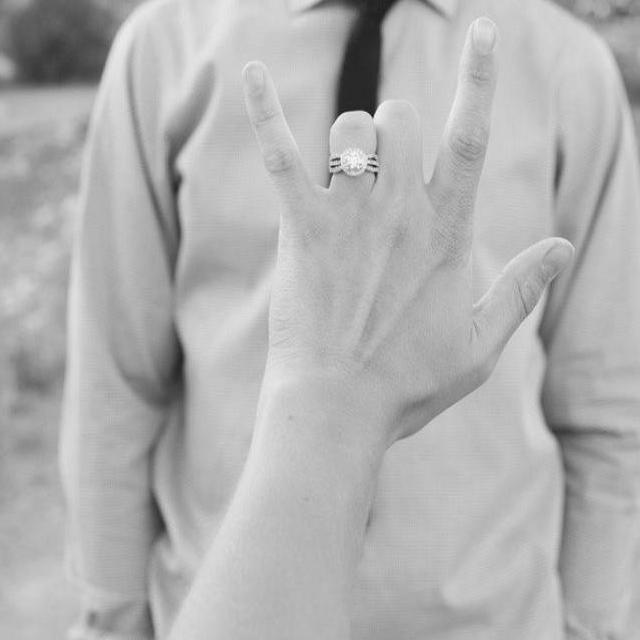i love you: (236, 10, 582, 445)
